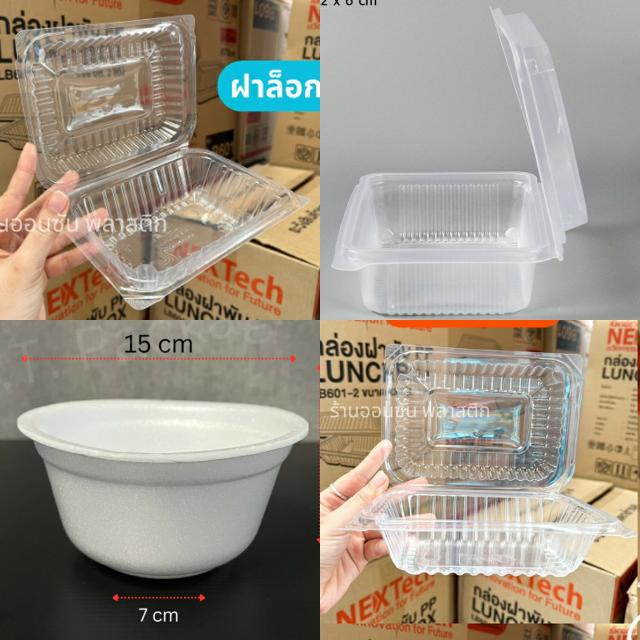Single-Use-Plastic: (16, 15, 305, 308), (332, 11, 586, 315), (350, 345, 632, 576), (18, 399, 309, 578)
